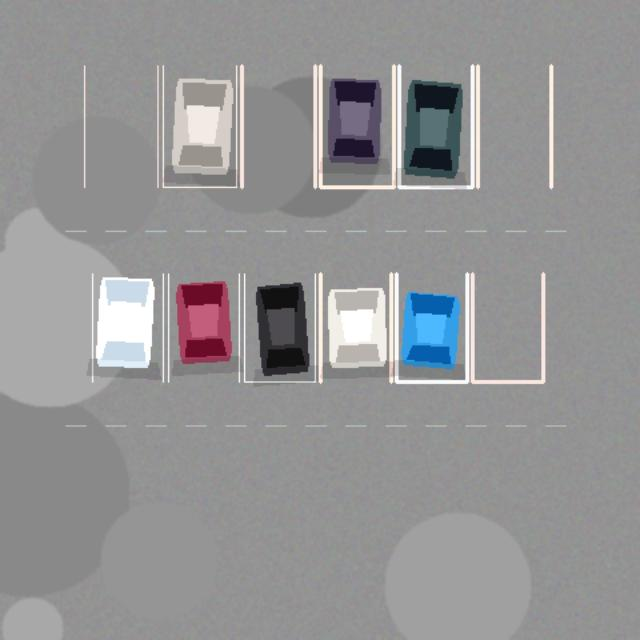space-empty: (241, 65, 315, 187), (477, 65, 551, 187), (84, 65, 157, 187), (472, 273, 543, 381)
space-occupied: (163, 65, 236, 187), (320, 65, 393, 187), (399, 65, 472, 187), (92, 273, 163, 381), (168, 273, 239, 381), (244, 273, 315, 381), (320, 273, 391, 381), (396, 273, 467, 381)
